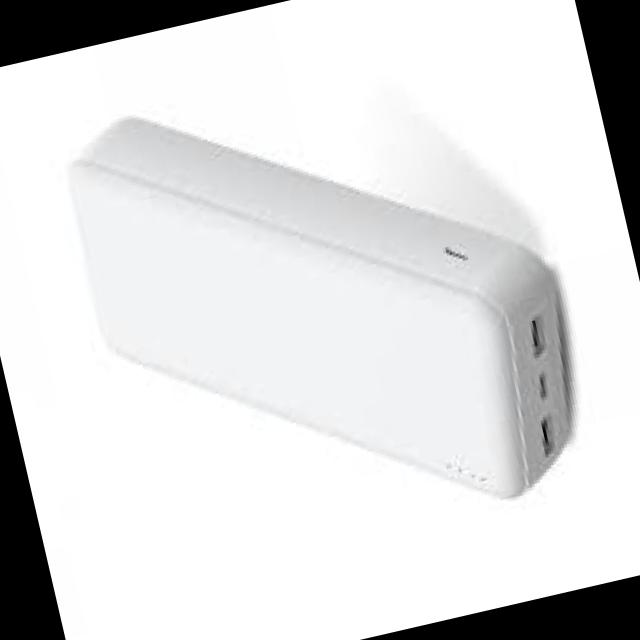portable-charger: (52, 27, 610, 579)
